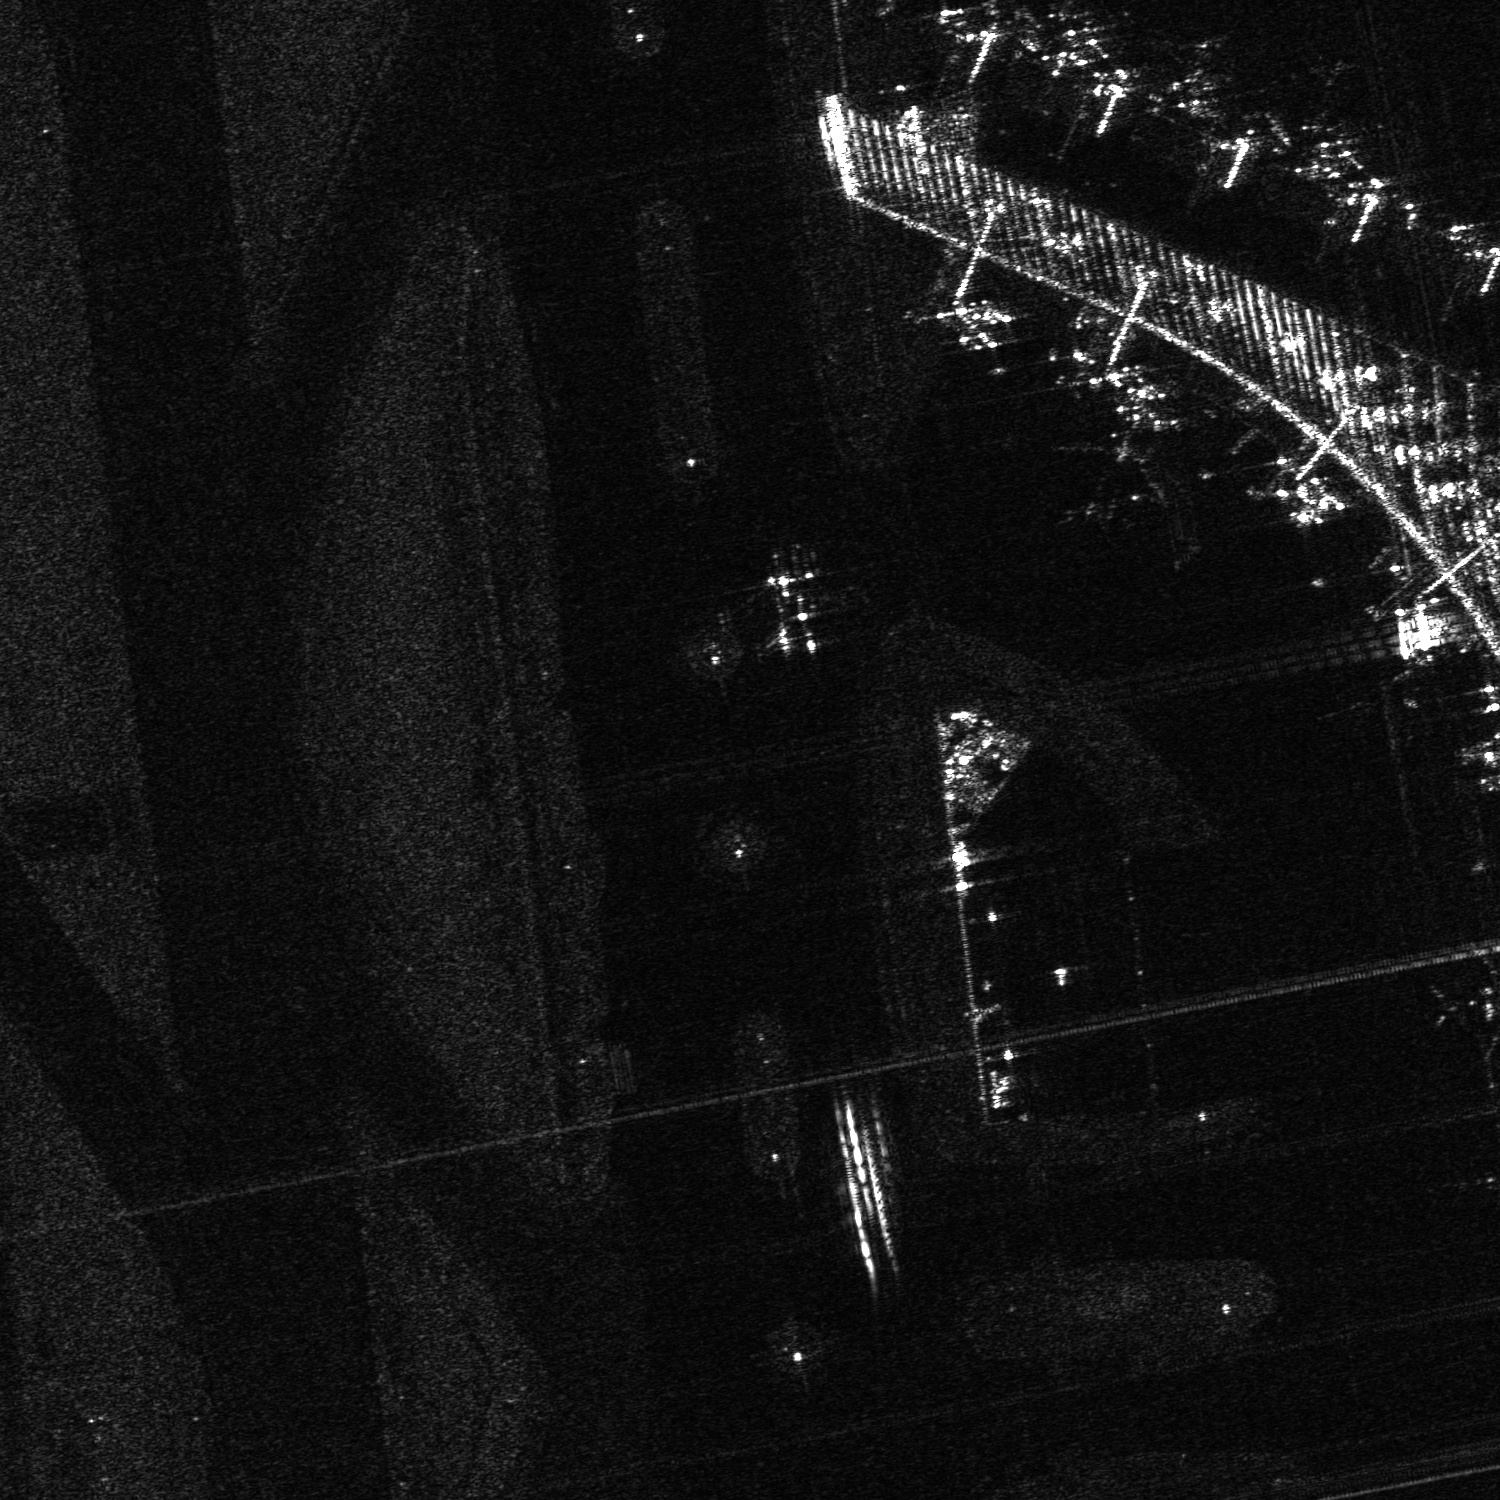Boeing787: (1054, 431, 1172, 522), (1033, 16, 1111, 62)
other: (736, 548, 841, 657)
